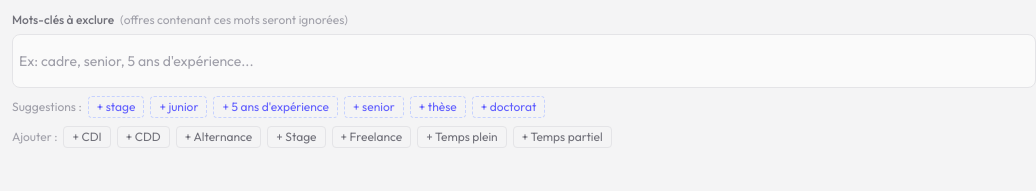
Test: StepMotsClesExclus › blocks a preset click that conflicts with the include list
Step 1. Click the button "+ CDI" → x=87, y=137, box [64, 126, 111, 148]
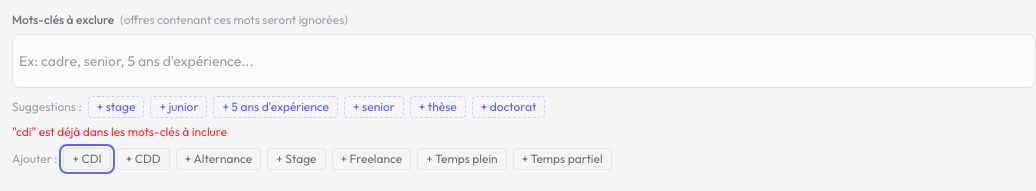
Now the text "\"cdi\" est déjà dans les mots-clés à inclure" is shown, box [12, 124, 227, 139]
